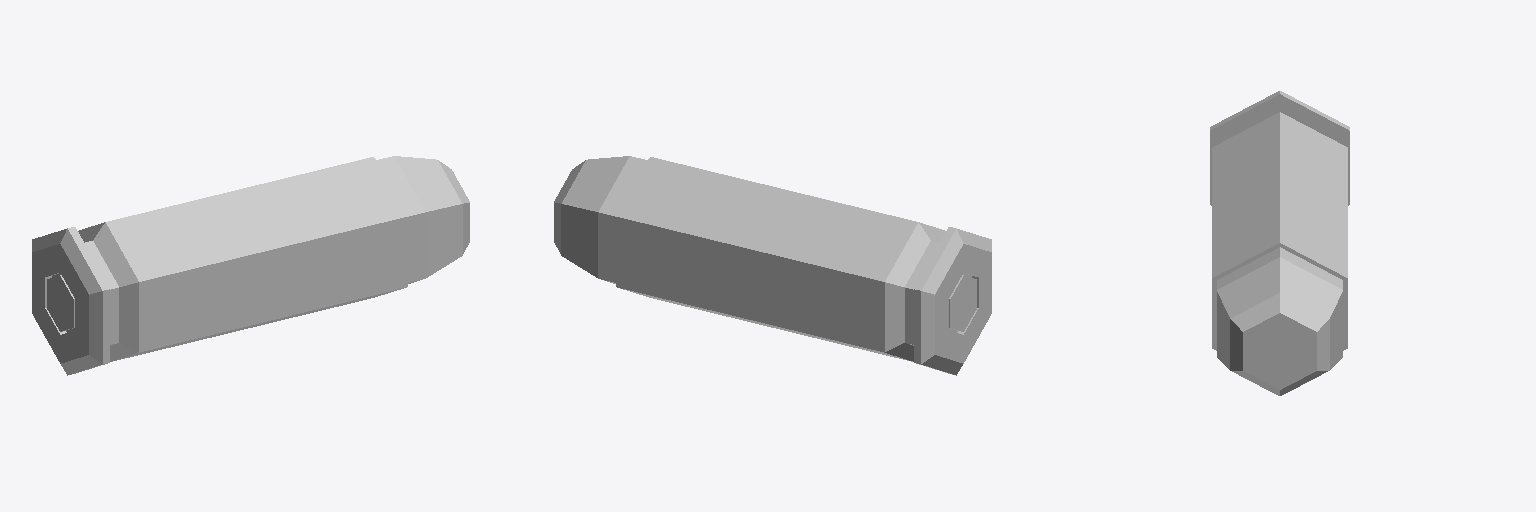
File: tcp._45_bullet.obj
The picture shows the model from 3 angles: view 1: azimuth 30°, elevation 25°; view 2: azimuth 150°, elevation 25°; view 3: azimuth 270°, elevation 25°; orthographic projection.
Visible parts, largest first — view 1: bulletModel; view 2: bulletModel; view 3: bulletModel.
Part boxes in pixels (x1,y1,x2,y2): bulletModel: (32,156,469,375); bulletModel: (554,156,991,375); bulletModel: (1210,91,1349,395).
Size of the model in its own units: 1.01 by 0.3614 by 0.3129.